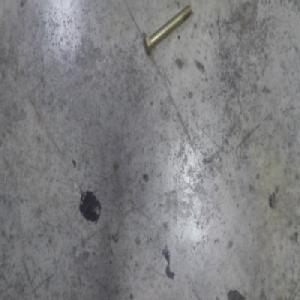Bolt: (143, 3, 193, 57)
